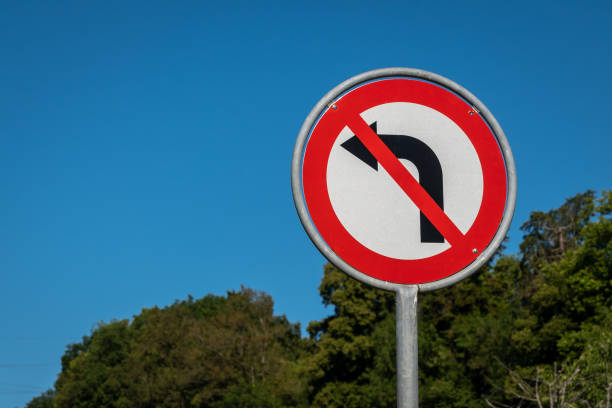sola_girilmez: (296, 68, 505, 284)
